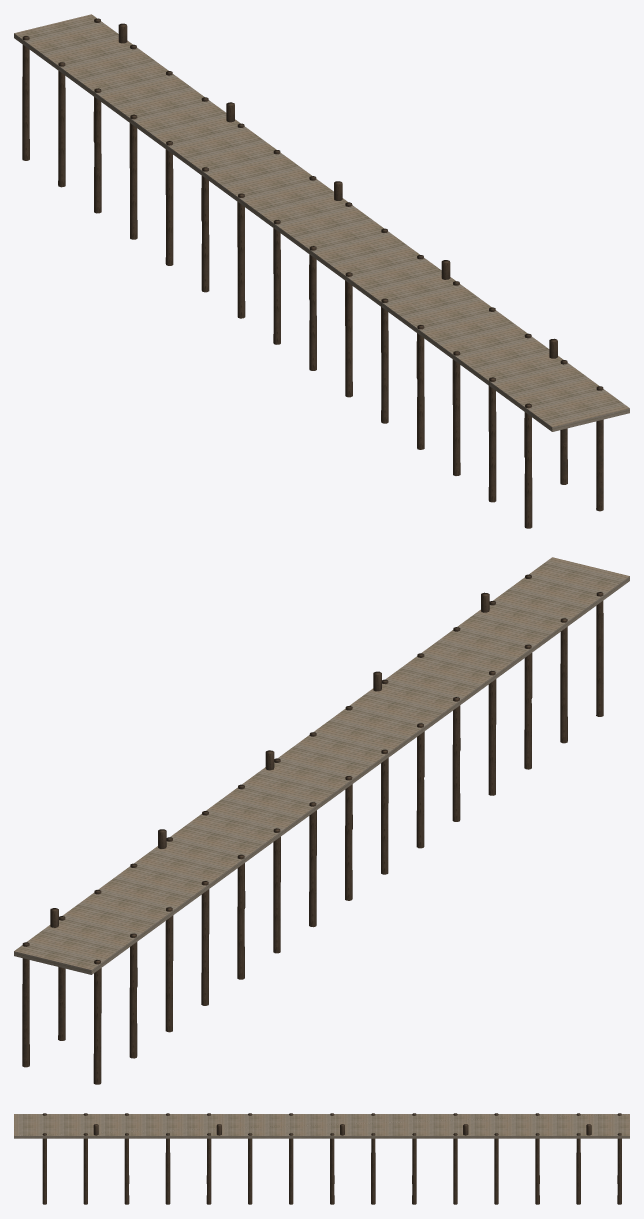
File: dock.glb
The picture shows the model from 3 angles, top to bottom: view 1: azimuth 30°, elevation 25°; view 2: azimuth 150°, elevation 25°; view 3: azimuth 270°, elevation 25°; orthographic projection. The views are drawn at different scales.
Visible parts, largest first — view 1: dock; view 2: dock; view 3: dock.
Part boxes in pixels (x1=…): dock: x1=14, y1=14, x2=629, y2=528; dock: x1=14, y1=557, x2=629, y2=1084; dock: x1=14, y1=1113, x2=629, y2=1204.
Bounding box in the file's own units: 5.04 × 8.4 × 60.
2 materials, 2 textured.
